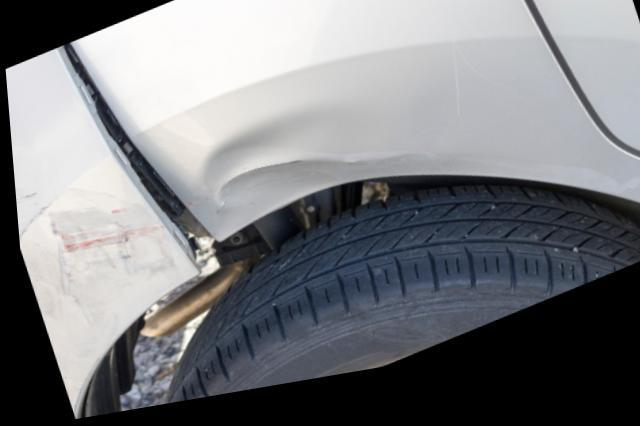dent: (199, 118, 364, 217)
dislocated part: (4, 43, 214, 421)
scratch: (13, 180, 165, 321)
